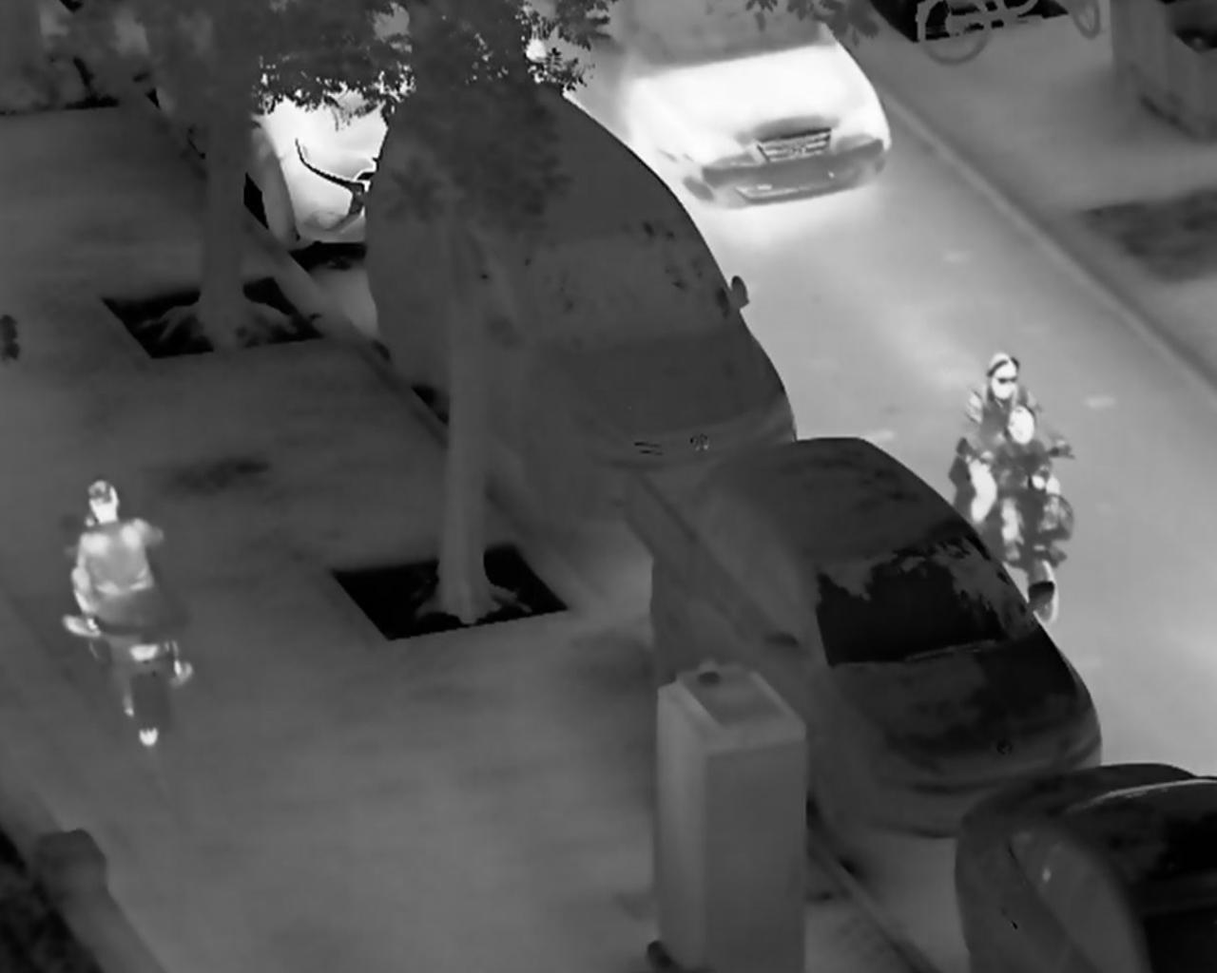person: (58, 479, 196, 697), (958, 351, 1069, 551), (984, 402, 1077, 567)
